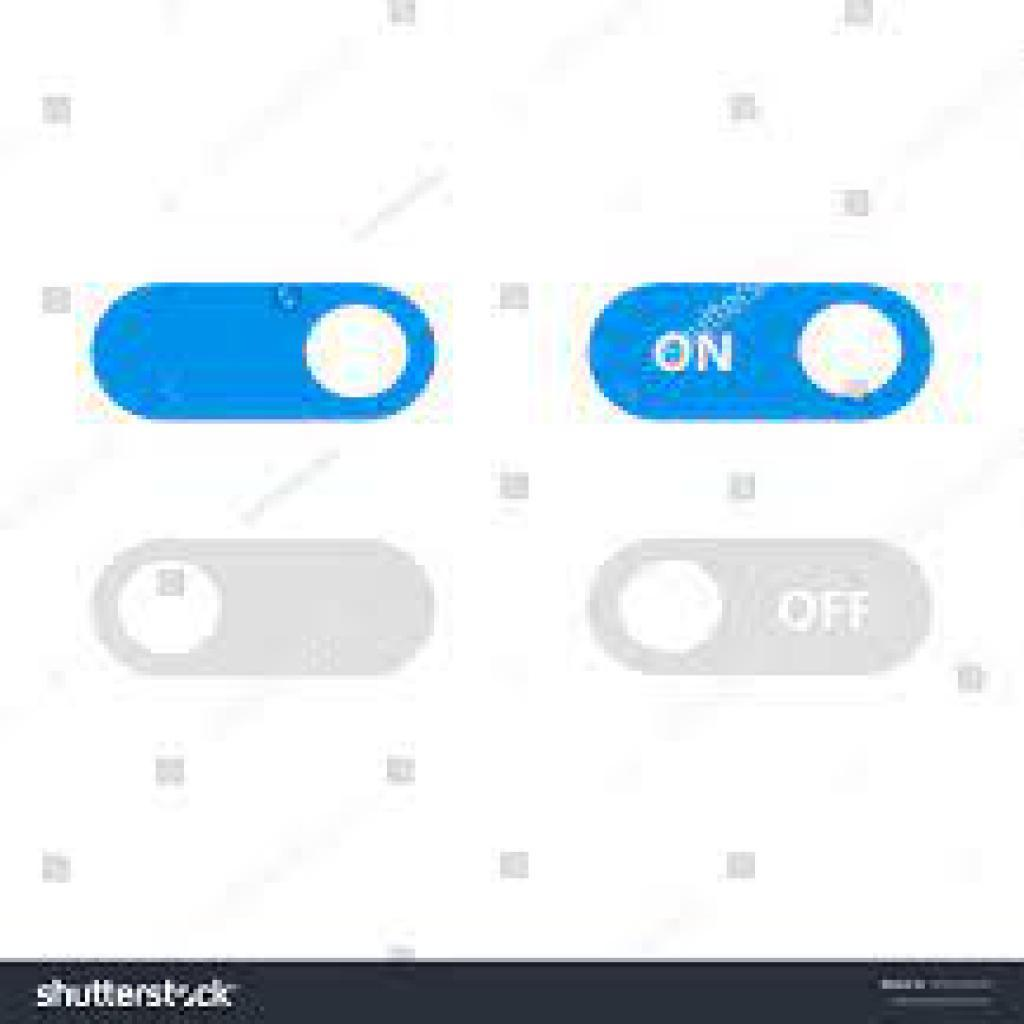switch: (93, 539, 438, 679), (591, 283, 937, 422), (90, 284, 435, 423), (590, 539, 935, 673)
